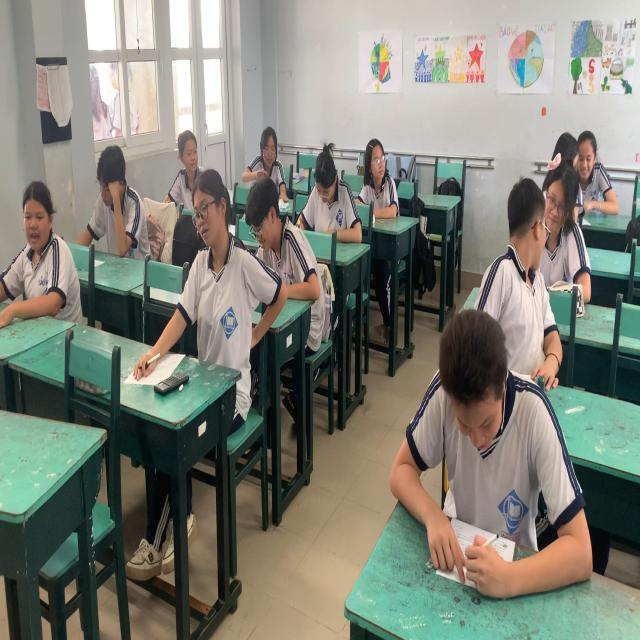cheating: (489, 174, 558, 374), (567, 126, 624, 220), (359, 128, 402, 222)
not_cheating: (404, 312, 555, 561), (182, 160, 256, 354), (7, 160, 75, 333), (240, 171, 310, 294), (544, 160, 593, 312), (90, 146, 144, 267), (308, 146, 359, 257), (163, 116, 215, 214), (248, 125, 288, 181)
